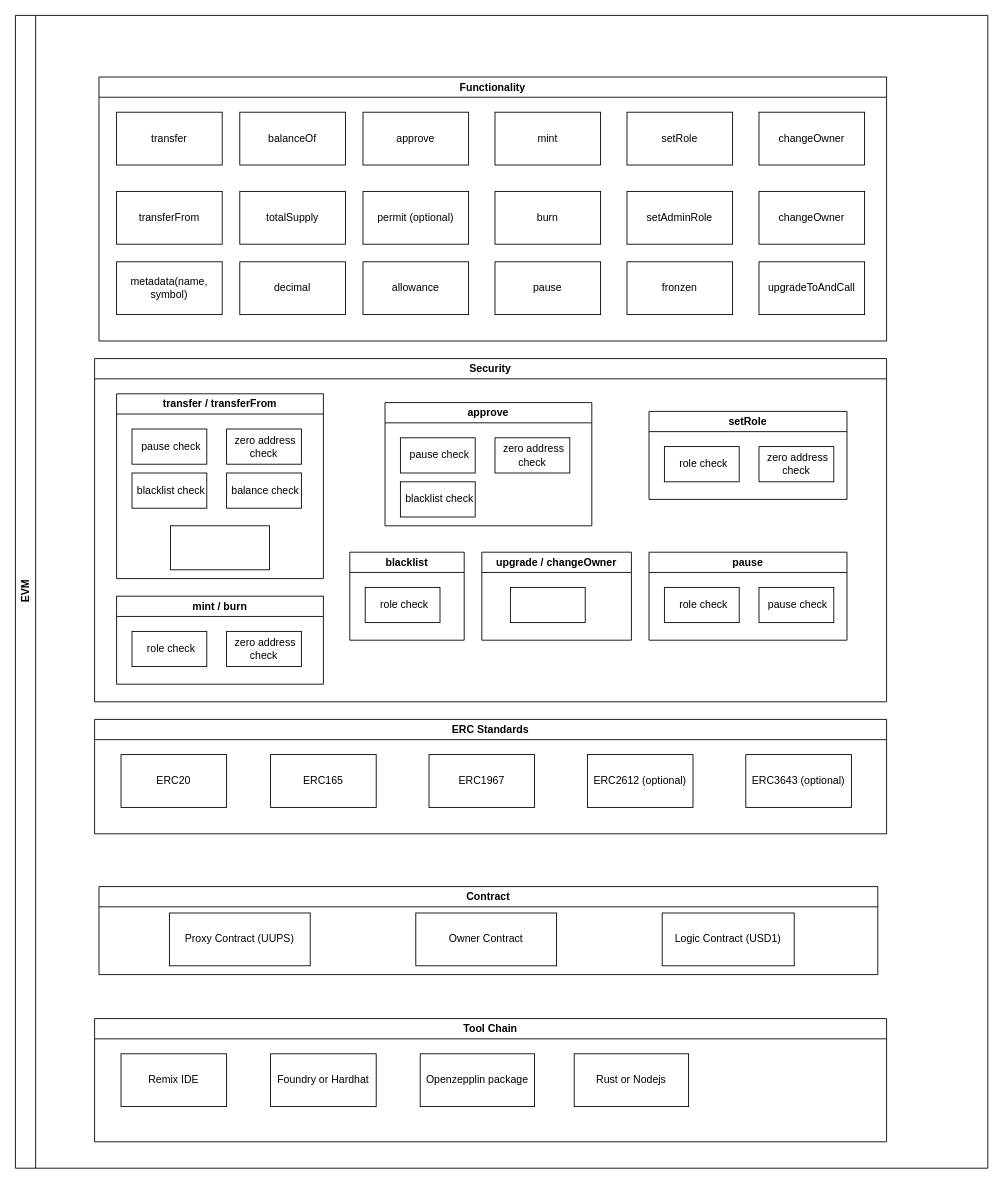
This 1003x1184 diagram has some shape labels left out. The centre of each missing label's shape, as x and y in pixels:
allowance check (transferFrom): point (219, 547)
owner check: point (547, 605)
